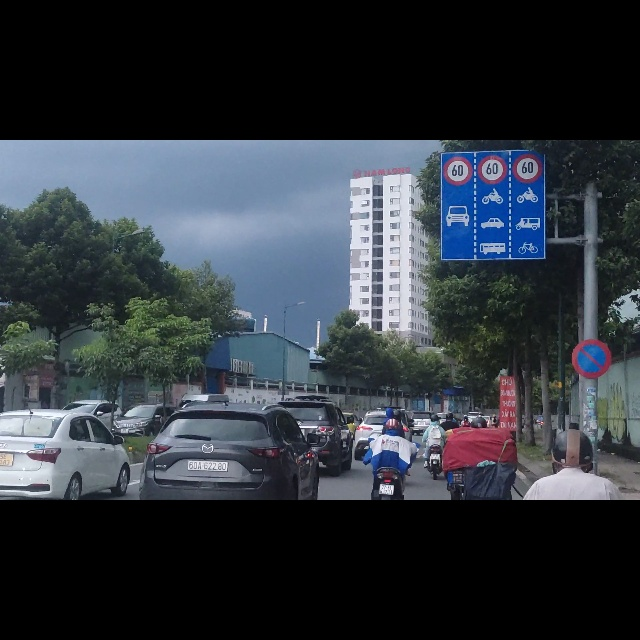bien_cam: (440, 80, 546, 211), (572, 354, 612, 422), (441, 23, 473, 82), (511, 21, 544, 78), (478, 27, 507, 78)
